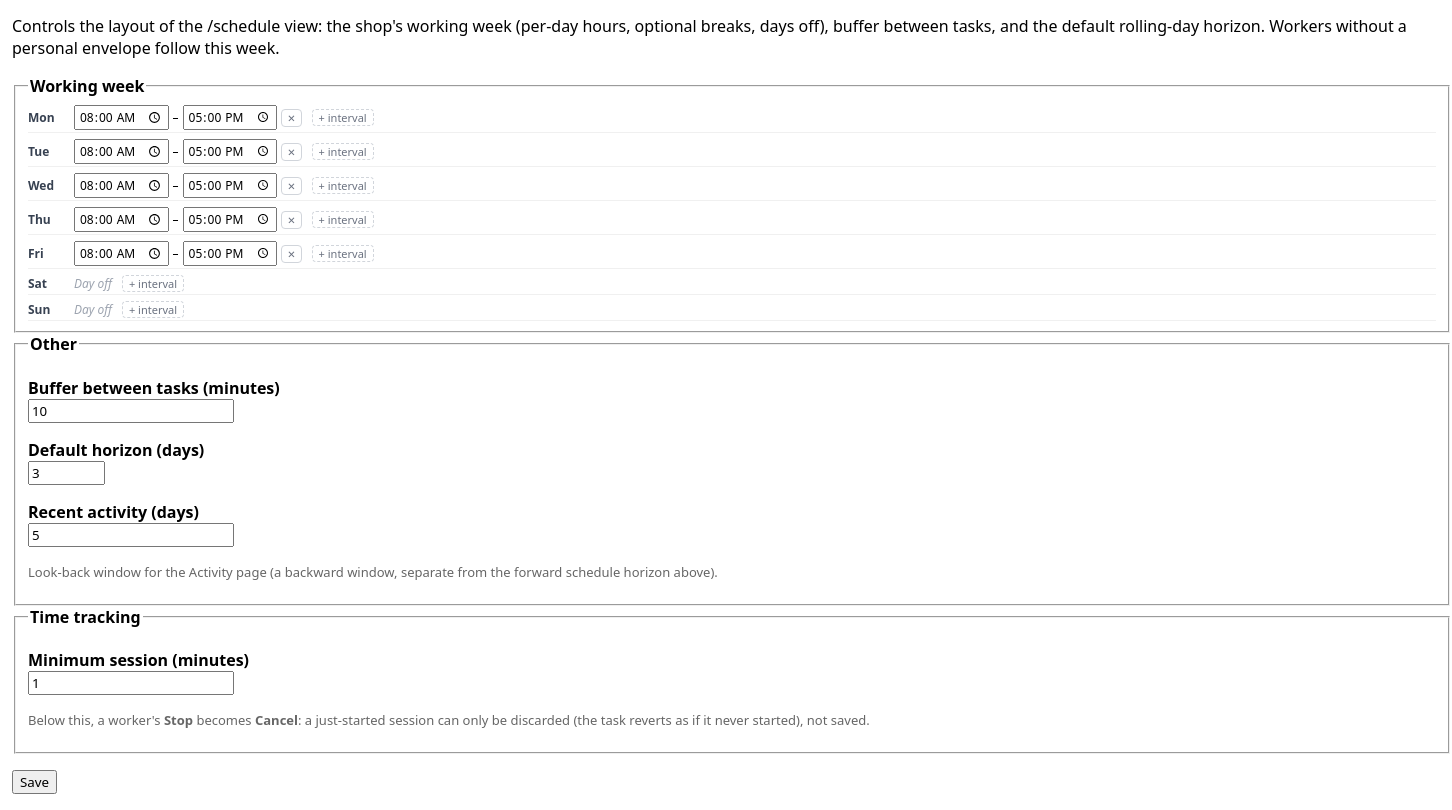
ScheduleSettings › saves the envelope object and shows a confirmation
This screenshot has width=1452, height=810.
(page scrolled)
Click the button "Save": (35, 782) [12,770,57,794]
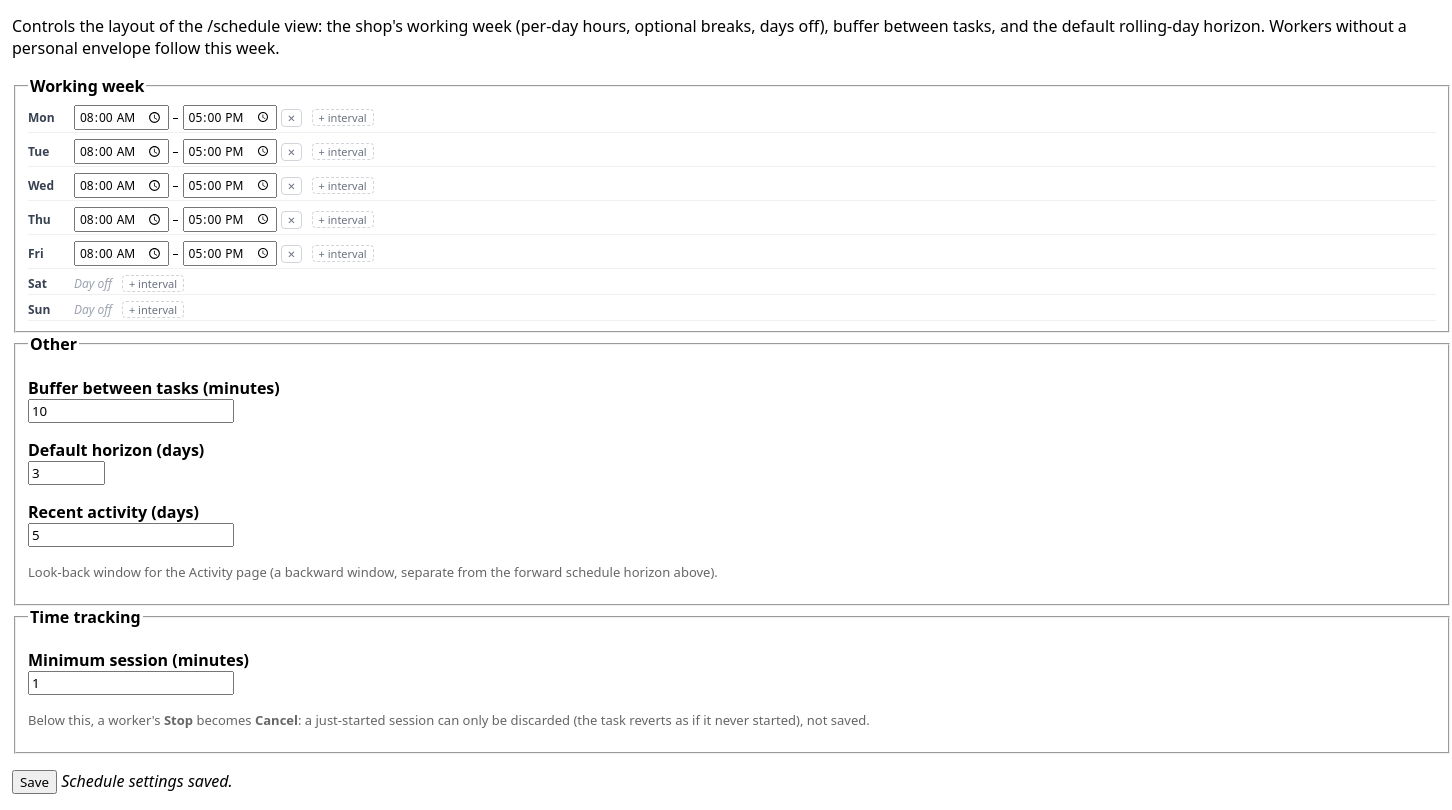
expect the text "Schedule settings saved." is shown: met, box [61,770,233,792]
